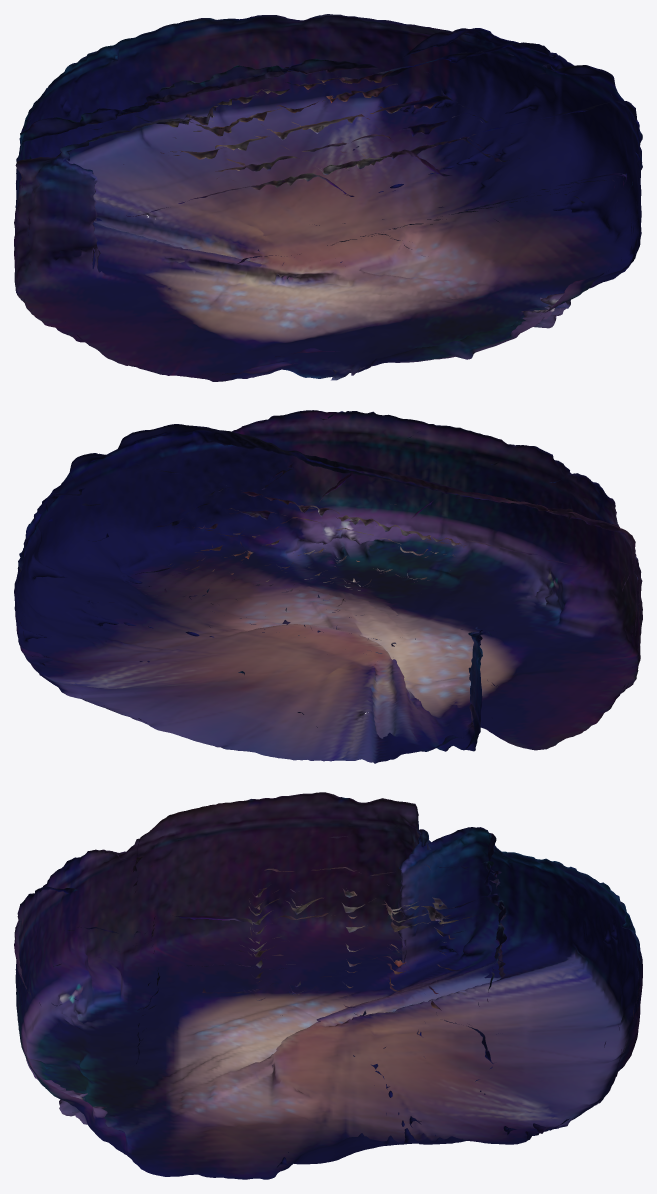
Rendered from ArenaDeck.glb.
3 views of the same model, one above another, from view 1: azimuth 30°, elevation 25°; view 2: azimuth 150°, elevation 25°; view 3: azimuth 270°, elevation 25° (orthographic). The views are drawn at different scales.
Parts seen in each view (by area): view 1: world; view 2: world; view 3: world.
Part boxes in pixels (box(x1,y1,x2,y2)): world: box(14, 14, 642, 381); world: box(14, 410, 642, 763); world: box(14, 792, 642, 1179).
Size of the model in its own units: 12.49 by 3.04 by 11.91.
